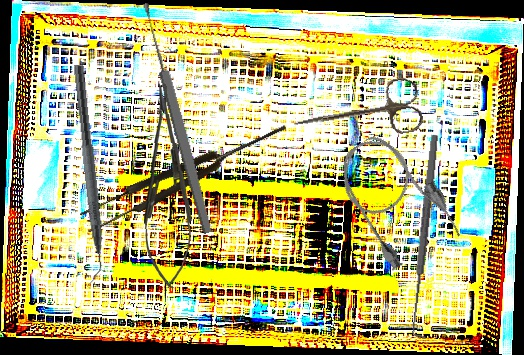Cannula: (324, 120, 468, 278)
Chopper: (58, 63, 111, 290)
Hook Surgical: (406, 133, 448, 340)
Iris Scissors: (288, 75, 426, 154)
Needle Holder: (139, 83, 195, 289)
Surgical Spoon: (139, 1, 215, 235)
Tissue Forceps: (78, 115, 292, 236)
